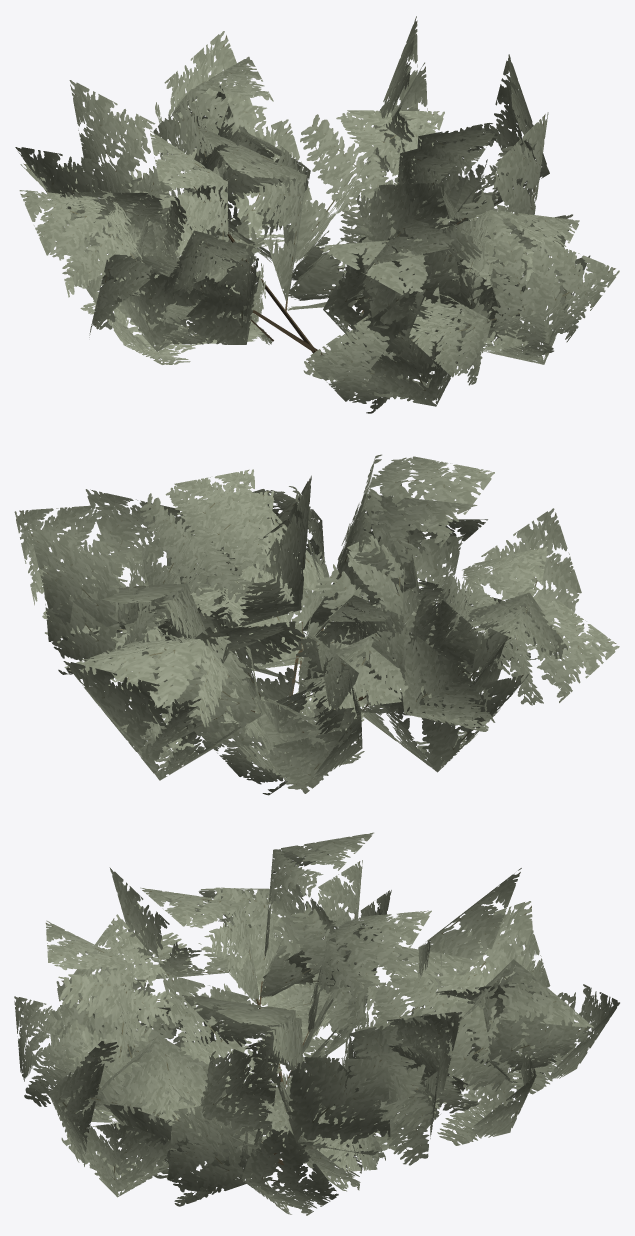
Rendered from SM_CN_Sage_A_LOD2.glb.
The picture shows the model from 3 angles, top to bottom: view 1: azimuth 30°, elevation 25°; view 2: azimuth 150°, elevation 25°; view 3: azimuth 270°, elevation 25°; orthographic projection.
Visible parts, largest first — view 1: SM_CN_Sage_A_LOD2; view 2: SM_CN_Sage_A_LOD2; view 3: SM_CN_Sage_A_LOD2.
Part boxes in pixels (x1=…): SM_CN_Sage_A_LOD2: x1=15, y1=16, x2=619, y2=413; SM_CN_Sage_A_LOD2: x1=14, y1=454, x2=619, y2=795; SM_CN_Sage_A_LOD2: x1=14, y1=832, x2=619, y2=1215.
Bounding box in the file's own units: 0.9682 × 0.45 × 1.
2 materials, 2 textured.
